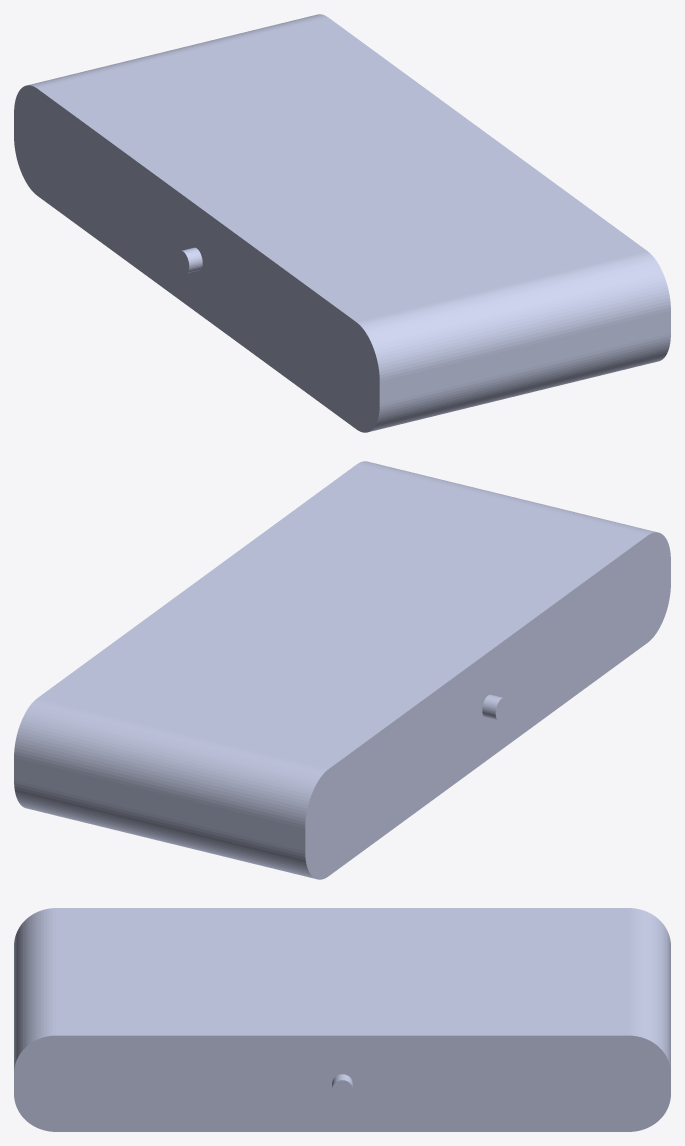
Rendered from ChasisV1.6.dae.
The picture shows the model from 3 angles, top to bottom: view 1: azimuth 30°, elevation 25°; view 2: azimuth 150°, elevation 25°; view 3: azimuth 270°, elevation 25°; orthographic projection. The views are drawn at different scales.
Parts seen in each view (by area): view 1: ID2; view 2: ID2; view 3: ID2.
Part boxes in pixels (x1,y1,x2,y2): ID2: (14,14,670,432); ID2: (14,461,670,879); ID2: (14,908,670,1131).
Size of the model in its own units: 0.236 by 0.47 by 0.076.
